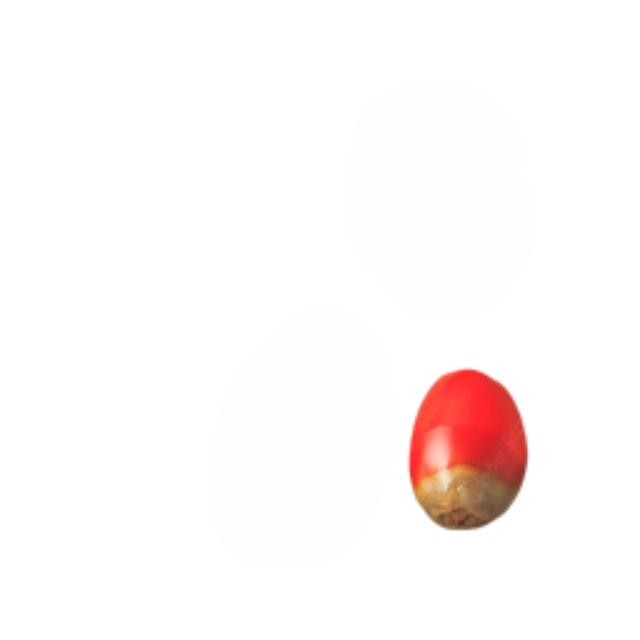defect: (405, 367, 527, 533)
